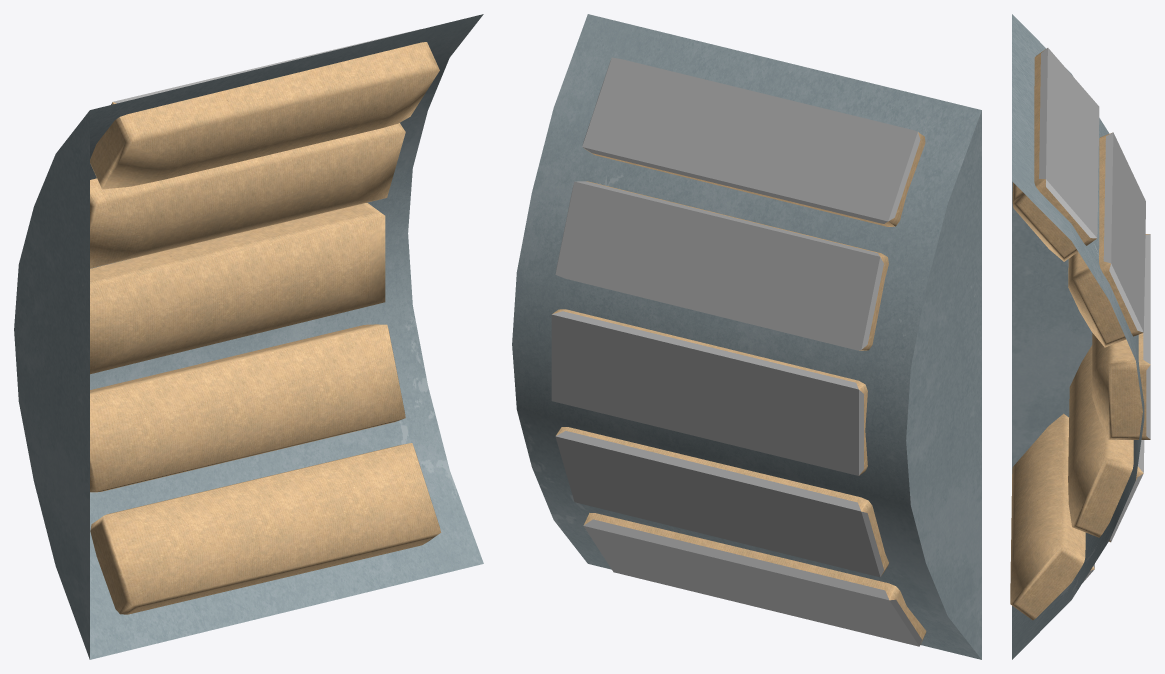
Rendered from Wall_Padded_End.fbx.
3 views of the same model, side by side, from view 1: azimuth 30°, elevation 25°; view 2: azimuth 150°, elevation 25°; view 3: azimuth 270°, elevation 25° (orthographic). The views are drawn at different scales.
Parts seen in each view (by area): view 1: pPlane2; view 2: pPlane2; view 3: pPlane2.
Part boxes in pixels (bbox=[...]): pPlane2: bbox=[14, 14, 483, 659]; pPlane2: bbox=[512, 14, 981, 659]; pPlane2: bbox=[1010, 14, 1150, 659].
Bounding box in the file's own units: 3 × 4 × 1.07.
